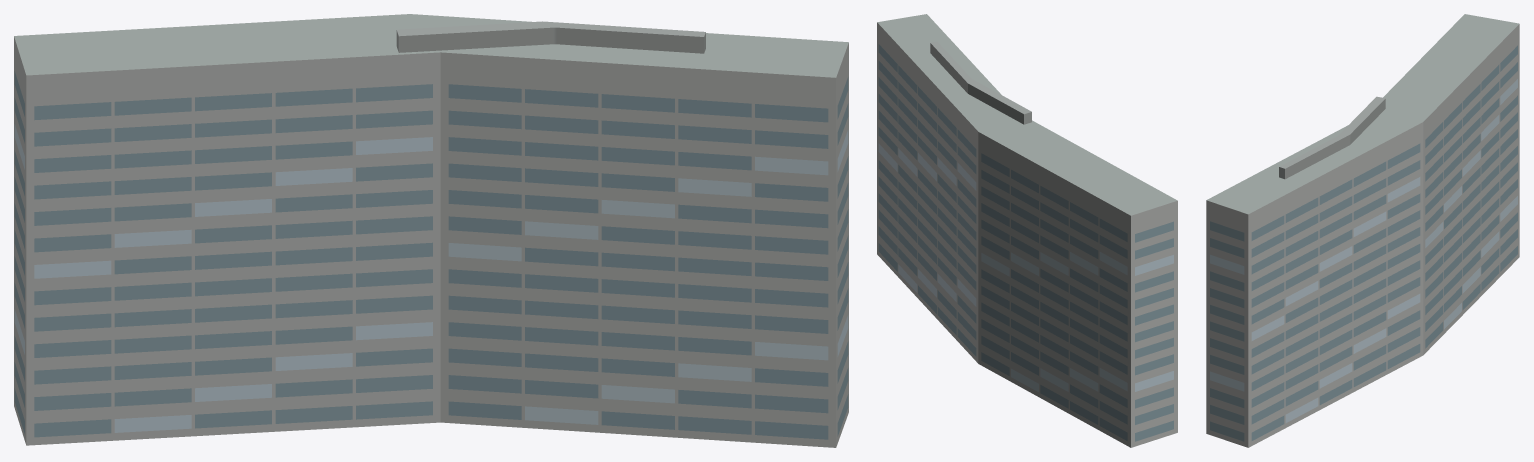
Rendered from fallback-daechi-eunma-29.glb.
3 renders of one model, left to right at view 1: azimuth 30°, elevation 25°; view 2: azimuth 150°, elevation 25°; view 3: azimuth 270°, elevation 25°, orthographic. The views are drawn at different scales.
Parts seen in each view (by area): view 1: fallback-daechi-eunma-29; view 2: fallback-daechi-eunma-29; view 3: fallback-daechi-eunma-29.
Part boxes in pixels (x1=…): fallback-daechi-eunma-29: x1=14, y1=14, x2=848, y2=447; fallback-daechi-eunma-29: x1=877, y1=14, x2=1177, y2=447; fallback-daechi-eunma-29: x1=1206, y1=14, x2=1519, y2=447.
Size of the model in its own units: 78.61 by 44.62 by 51.94.
